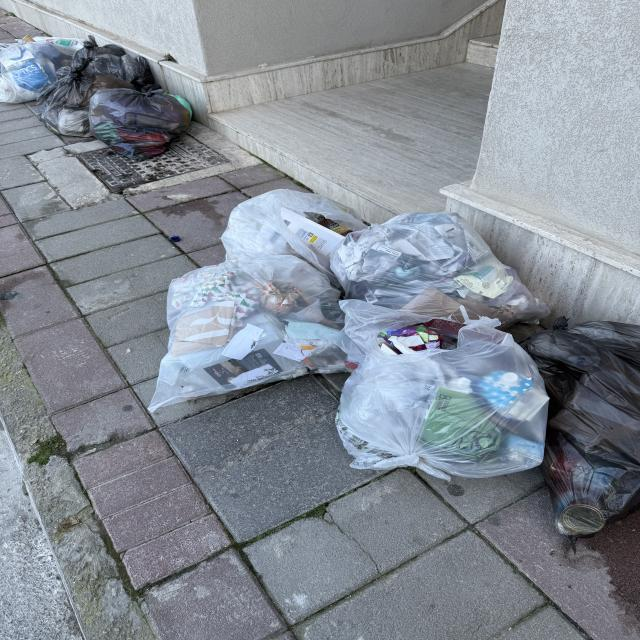Mixed Waste -Black Bags-: (518, 318, 640, 550), (36, 34, 191, 162)
Recyclable Material -Grey Bags-: (147, 190, 550, 481), (0, 42, 81, 103)
